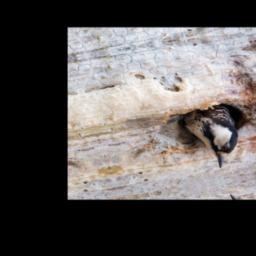Woodpecker: (178, 104, 253, 172)
